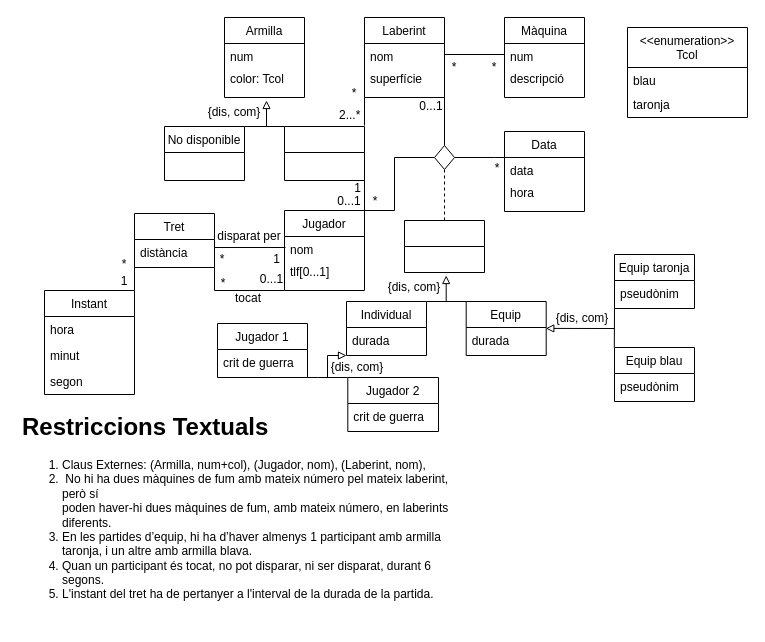
Some shapes in this 765 by 642 pixel diagram are drawn without their labels. The shapes that lost their labels are listed below. From the top down, each one's centre as x and y in pixels, then its label:
(x=324, y=153): Disponible
(x=444, y=246): Partida
